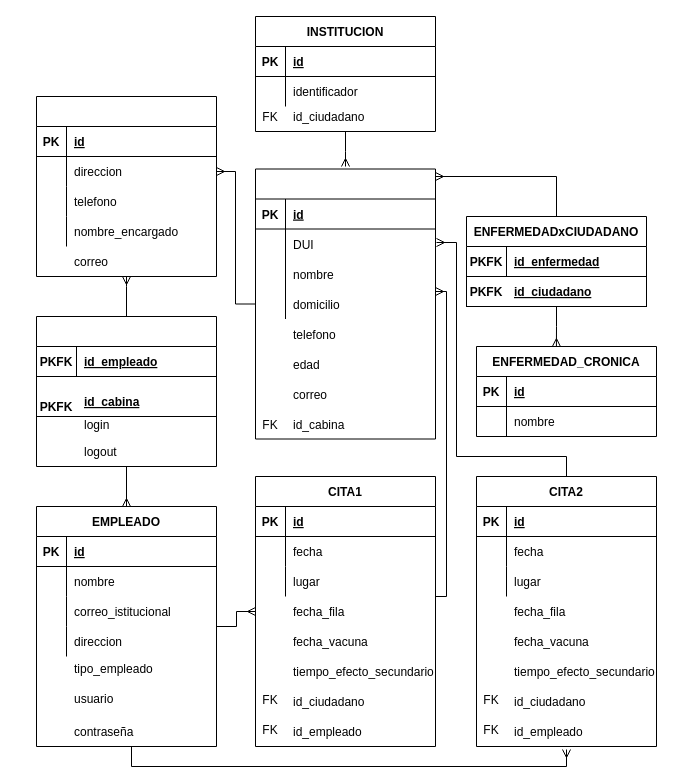
This 673x783 diagram has some shape labels left out. Each missing label, with the box of its shape:
CABINA: (36, 96, 216, 276)
CIUDADANO: (254, 168, 436, 439)
EMPLEADOxCABINA: (36, 316, 216, 466)
